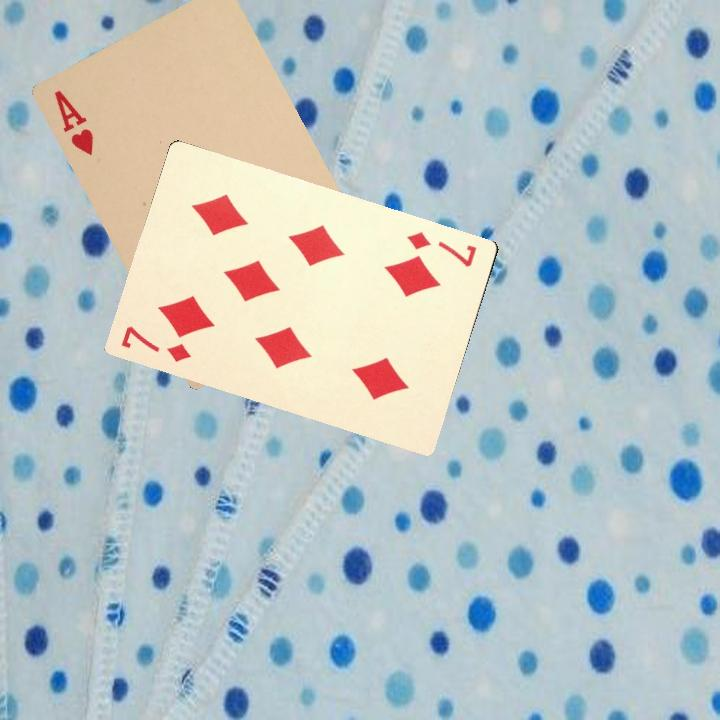7d: (117, 321, 194, 365), (403, 227, 479, 270)
Ah: (50, 86, 97, 158)
